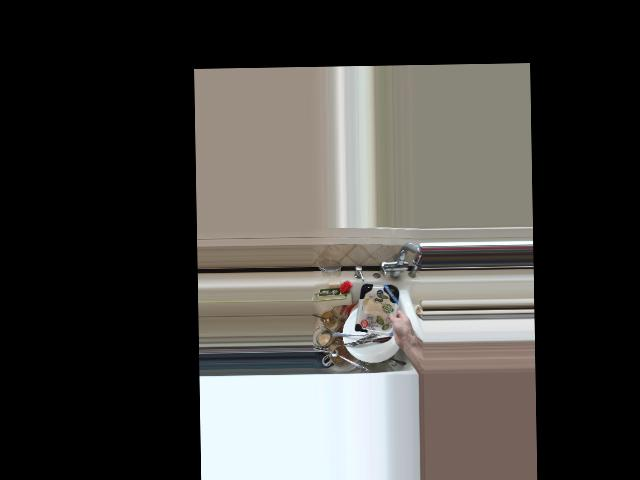cheese: (355, 279, 413, 344)
